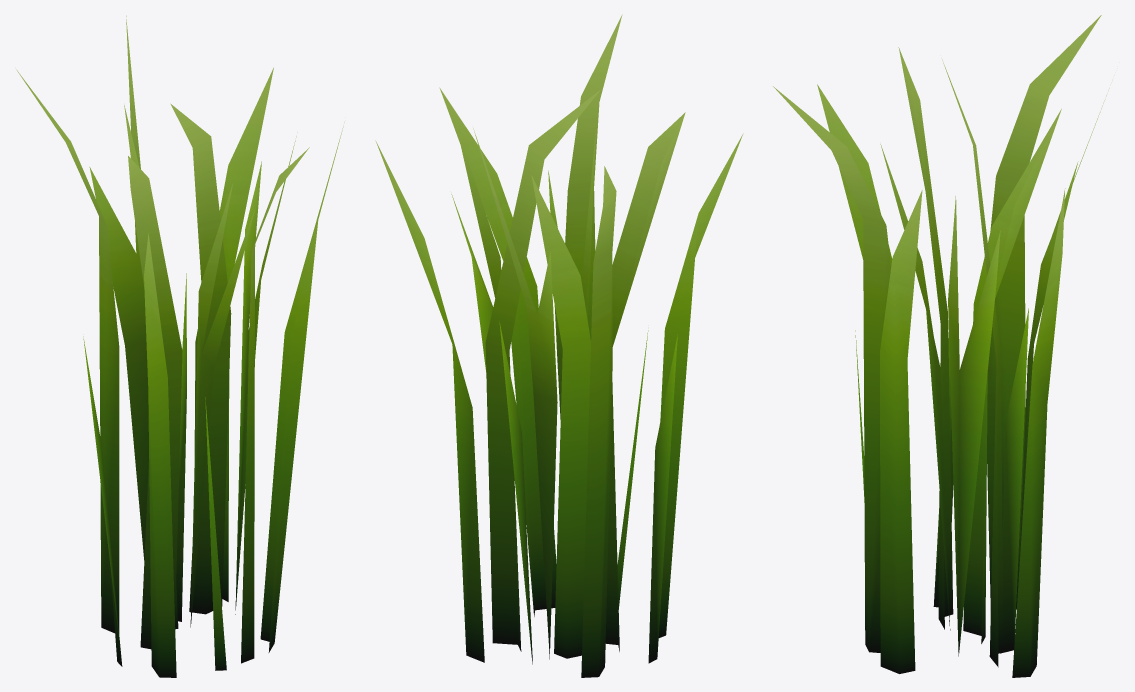
Rendered from Grass_Common_Tall.glb.
3 renders of one model, left to right at view 1: azimuth 30°, elevation 25°; view 2: azimuth 150°, elevation 25°; view 3: azimuth 270°, elevation 25°, orthographic. The views are drawn at different scales.
Visible parts, largest first — view 1: Grass_Common_Tall; view 2: Grass_Common_Tall; view 3: Grass_Common_Tall.
Boxes of the visible parts, <box> form: Grass_Common_Tall: <box>16,15,344,677</box>; Grass_Common_Tall: <box>375,14,743,677</box>; Grass_Common_Tall: <box>773,15,1109,677</box>.
Size of the model in its own units: 0.8627 by 1.87 by 0.9931.
1 material, 1 textured.
